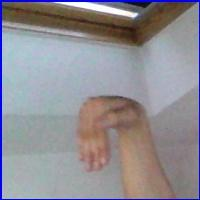del: (75, 91, 157, 180)
